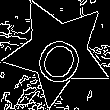O_NE: (27, 20, 89, 85)
